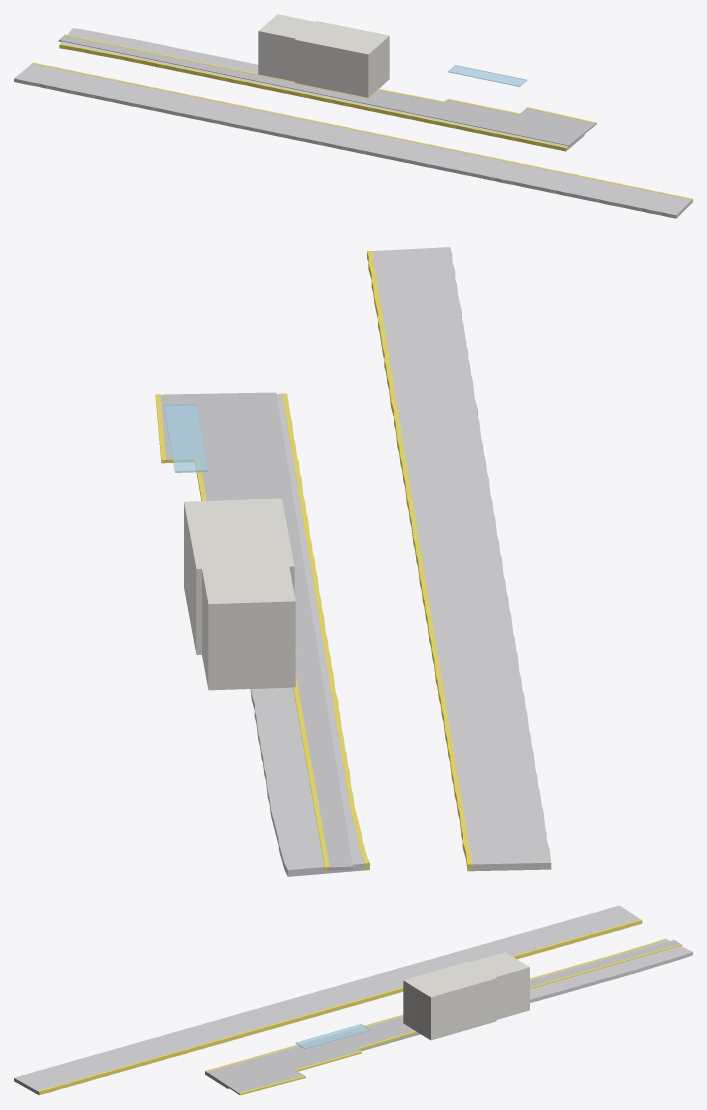
The model's file is 8507085-gasel.glb.
3 views of the same model, one above another, from view 1: azimuth 30°, elevation 25°; view 2: azimuth 150°, elevation 25°; view 3: azimuth 270°, elevation 25° (orthographic). The views are drawn at different scales.
Parts seen in each view (by area): view 1: platform_body@0, building_part@x, platform_surface@0, boarding_edge@0, roof@0; view 2: platform_body@0, building_part@x, platform_surface@0, boarding_edge@0, roof@0; view 3: platform_body@0, building_part@x, platform_surface@0, boarding_edge@0, roof@0.
Part boxes in pixels (x1,y1,x2,y2): platform_body@0: (14,28,692,218); building_part@x: (258,14,389,97); platform_surface@0: (58,35,596,146); boarding_edge@0: (32,34,692,202); roof@0: (448,65,527,86); platform_body@0: (250,247,551,876); building_part@x: (184,498,295,690); platform_surface@0: (160,392,352,870); boarding_edge@0: (155,251,472,871); roof@0: (163,403,208,472); platform_body@0: (14,905,692,1094); building_part@x: (403,952,529,1040); platform_surface@0: (207,940,680,1094); boarding_edge@0: (38,919,682,1095); roof@0: (295,1024,370,1049).
Size of the model in its own units: 65.87 by 7.65 by 99.95.
